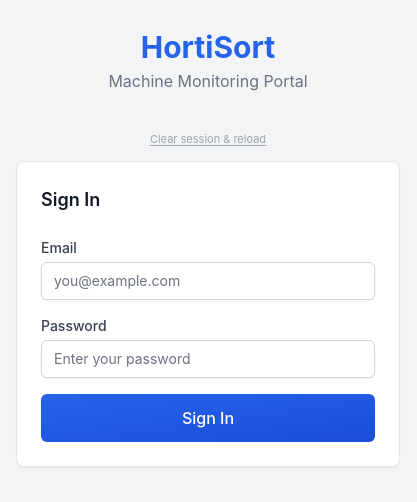
Scenario: LoginPage › shows error message on invalid credentials
Type "nobody@nowhere.com" into the field labelled "Email" at (208, 281), box [41,262,375,300]
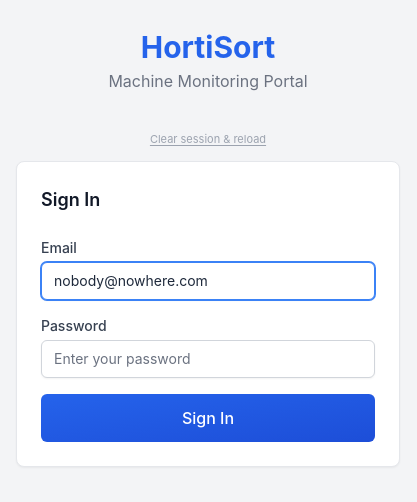
Type "wrong" into the password field labelled "Password" at (208, 359), box [41,340,375,378]
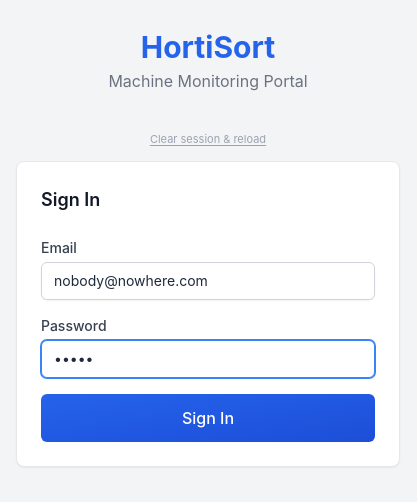
Click the button "Sign In" at (208, 418), box [41,394,375,442]
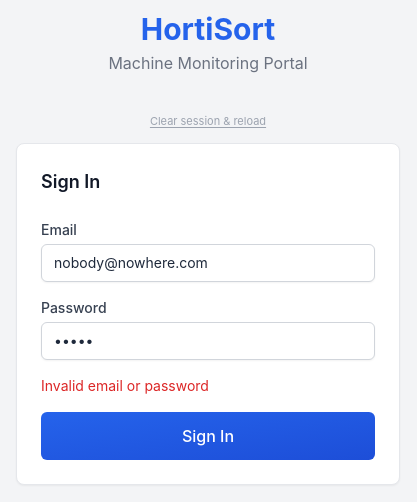
Now the text "Invalid email or password" is shown, box [41,377,209,394]
